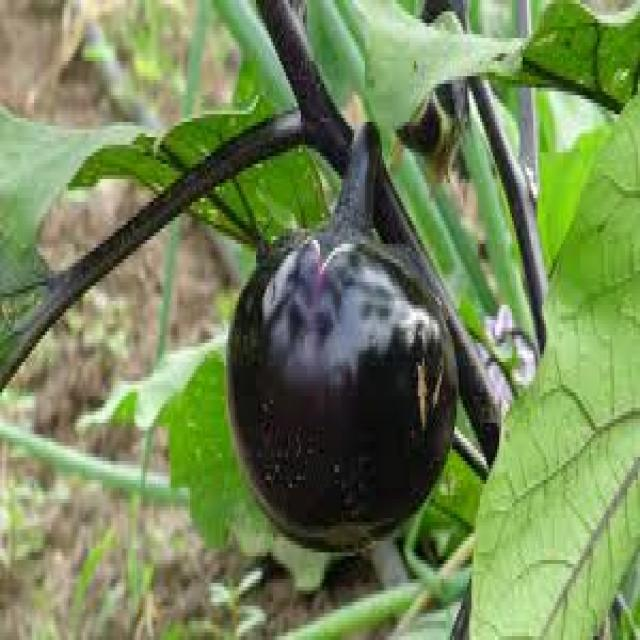Eggplant: (225, 122, 511, 556)
